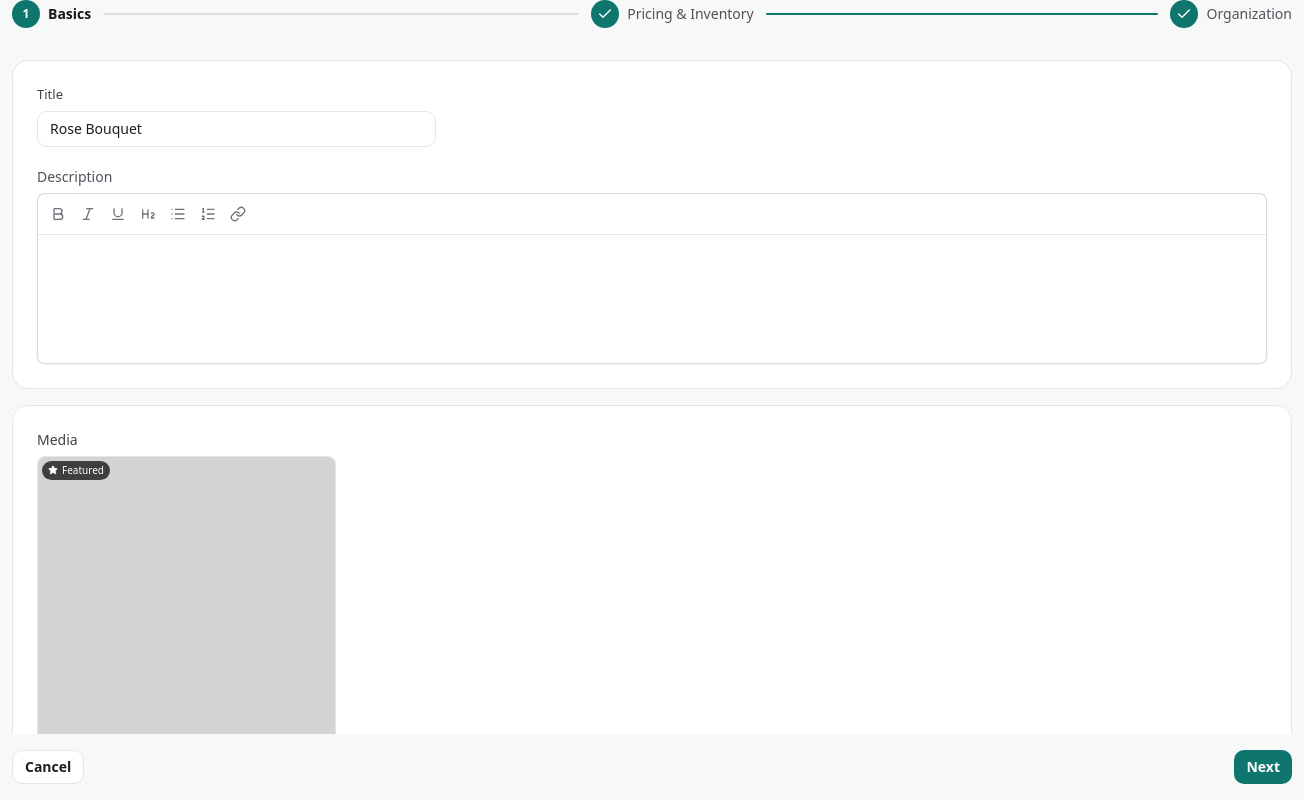
Scenario: ProductForm wizard › mode 'simple': Variants/Attributes/FAQs are opt-in links, not expanded editors
This screenshot has width=1304, height=800.
Click the button "Organization". click: (1231, 14)
box: [1170, 0, 1292, 28]
(page scrolled)
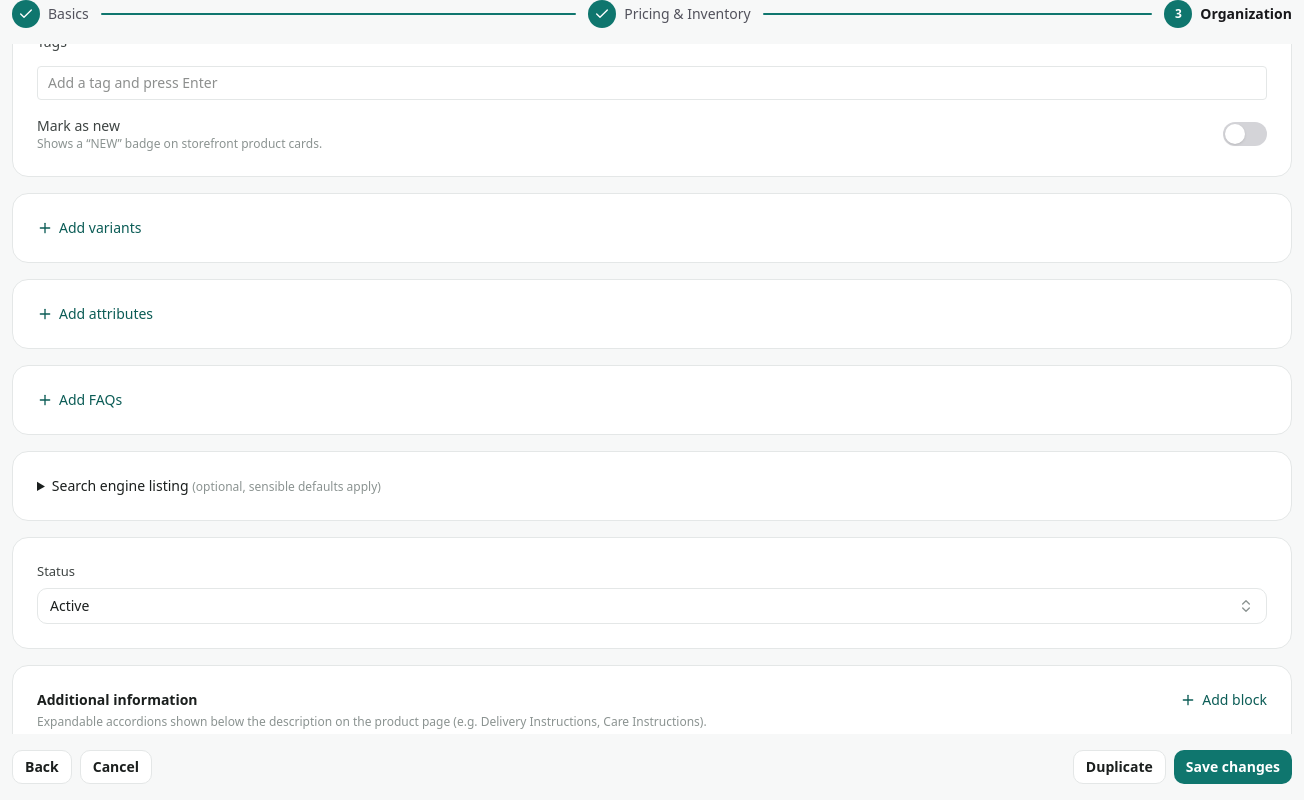
Now the button "Add variants" is shown, box [37, 218, 141, 238]
Now the button "Add attributes" is shown, box [37, 304, 153, 324]
Now the button "Add FAQs" is shown, box [37, 390, 122, 410]
